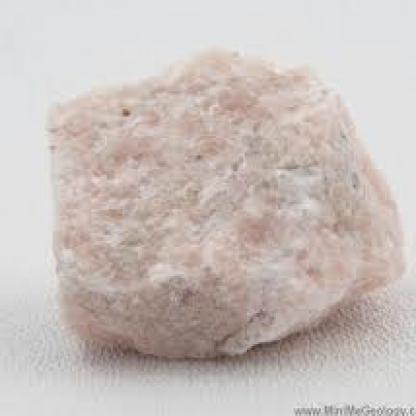Metamorphic_Marble: (35, 37, 414, 360)
